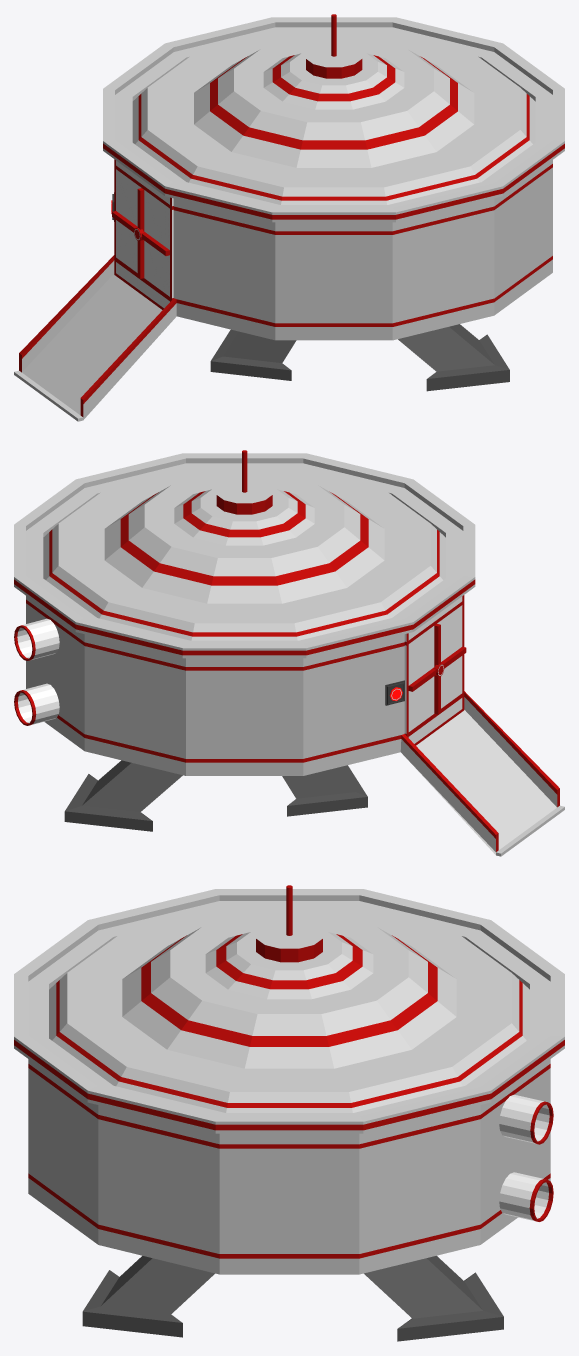
The model's file is Escape Pod.fbx.
The picture shows the model from 3 angles, top to bottom: view 1: azimuth 30°, elevation 25°; view 2: azimuth 150°, elevation 25°; view 3: azimuth 270°, elevation 25°; orthographic projection. The views are drawn at different scales.
Visible parts, largest first — view 1: EscapePod_LOD0, Door_LOD0; view 2: EscapePod_LOD0, Door_LOD0; view 3: EscapePod_LOD0.
Boxes of the visible parts, x1,y1,x2,y2 form: EscapePod_LOD0: [14, 14, 564, 421]; Door_LOD0: [112, 159, 173, 309]; EscapePod_LOD0: [14, 450, 564, 856]; Door_LOD0: [404, 595, 466, 745]; EscapePod_LOD0: [14, 885, 564, 1341].
Size of what is drawn, in the model's own units: 572 by 366 by 469.
